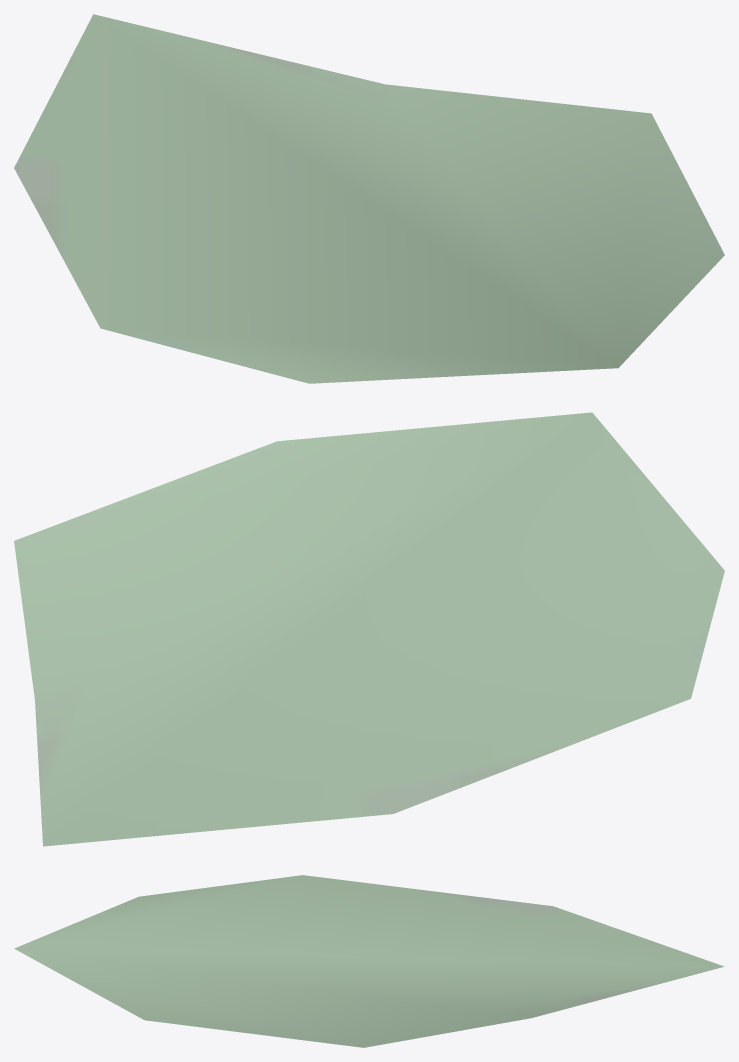
The model's file is TROLLHOLE02_HOLECAP122.fbx.
3 views of the same model, one above another, from view 1: azimuth 30°, elevation 25°; view 2: azimuth 150°, elevation 25°; view 3: azimuth 270°, elevation 25° (orthographic). The views are drawn at different scales.
Parts seen in each view (by area): view 1: TROLLHOLE02_HOLECAP122; view 2: TROLLHOLE02_HOLECAP122; view 3: TROLLHOLE02_HOLECAP122.
Part boxes in pixels (<box>): TROLLHOLE02_HOLECAP122: <box>14,14,724,383</box>; TROLLHOLE02_HOLECAP122: <box>14,412,724,846</box>; TROLLHOLE02_HOLECAP122: <box>14,875,724,1047</box>.
Size of the model in its own units: 14400 by 949 by 21868.
Materials: 1 (1 with a texture image).
